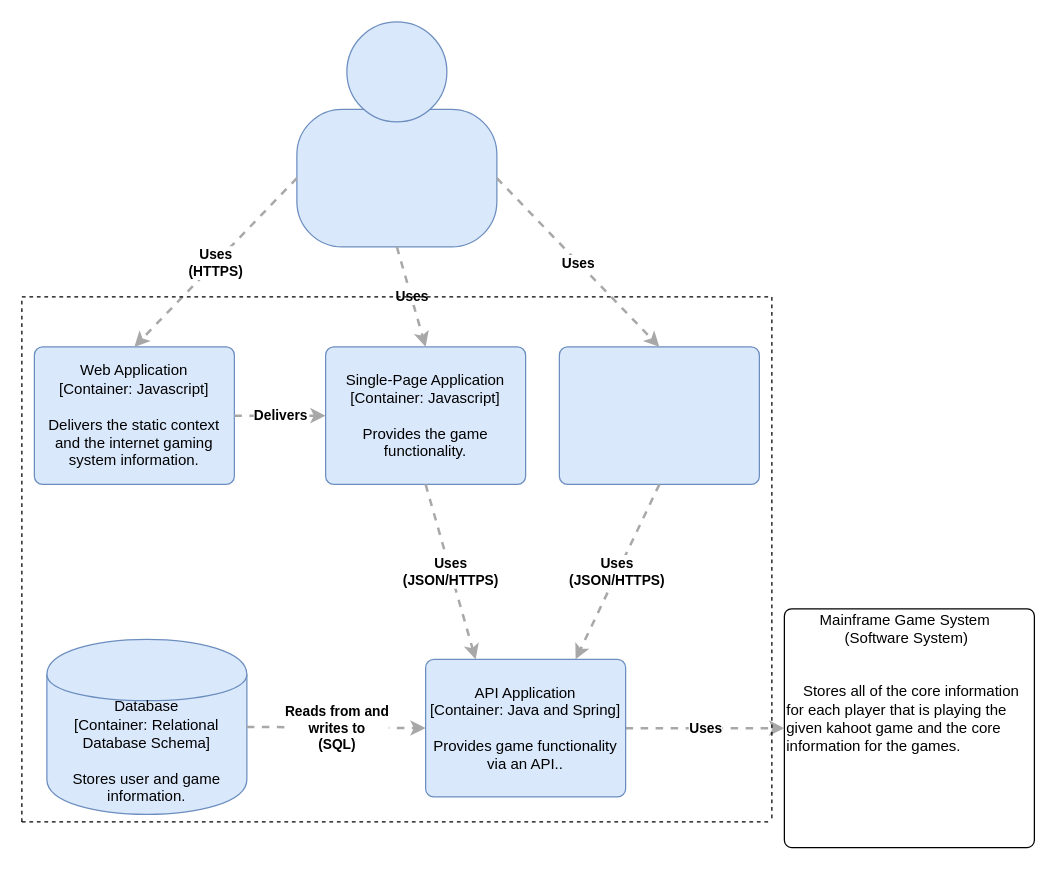
Some shapes in this 1056 by 870 pixel diagram are drawn without their labels. The centre of each missing label's shape, as x and y in pixels:
Mobile App [Container: Java ] Provides the game functionality.: pixel 658 415
Player [Person] A user that takes part in the kahoot game.: pixel 396 177
